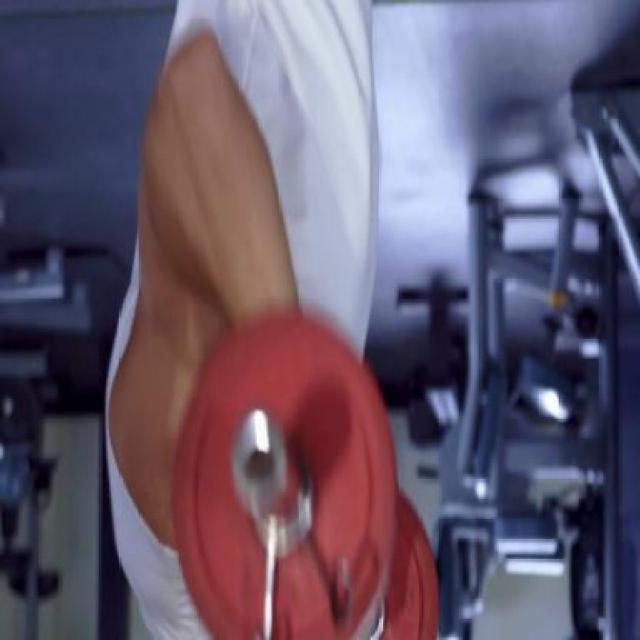Barbell: (226, 396, 288, 522)
